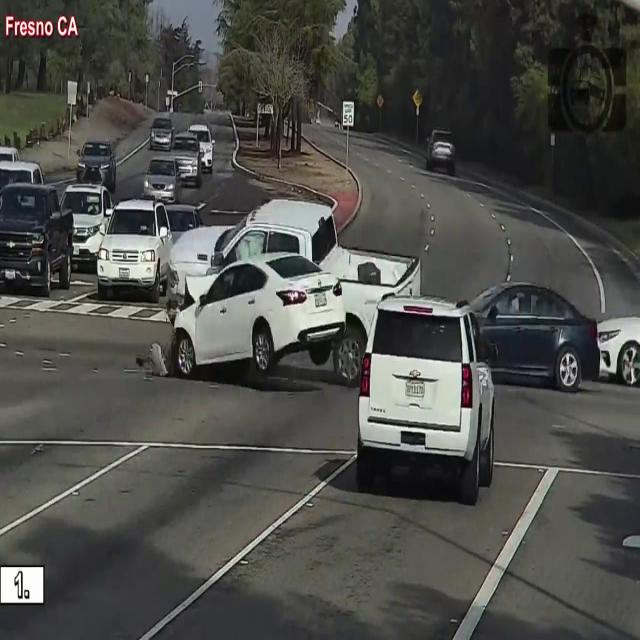accident: (149, 188, 425, 406)
non_accident: (0, 155, 112, 305), (125, 115, 223, 217)
